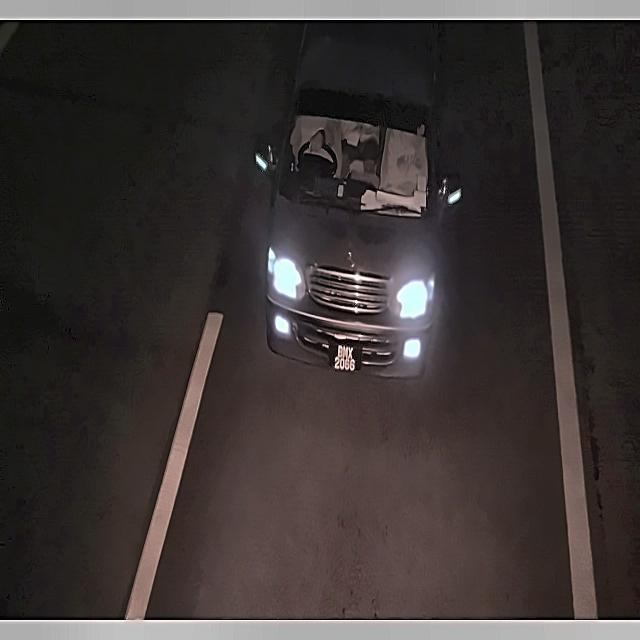car: (326, 340, 366, 378)
